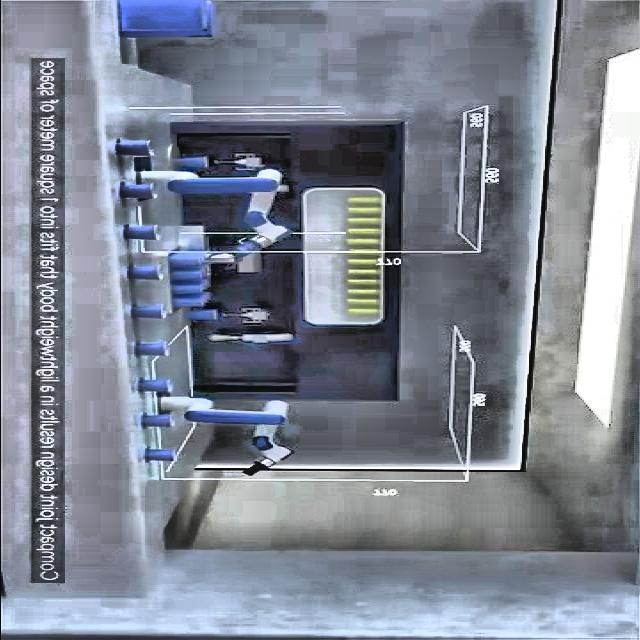robot: (130, 162, 298, 264), (158, 396, 295, 477)
